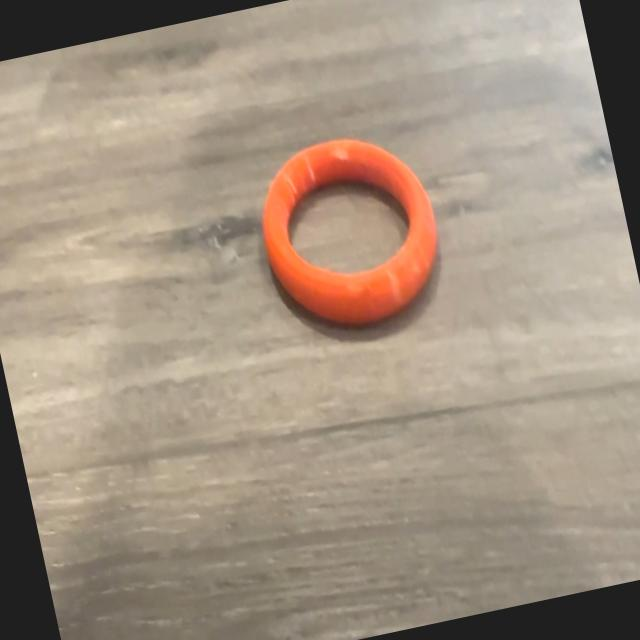note: (247, 120, 456, 348)
